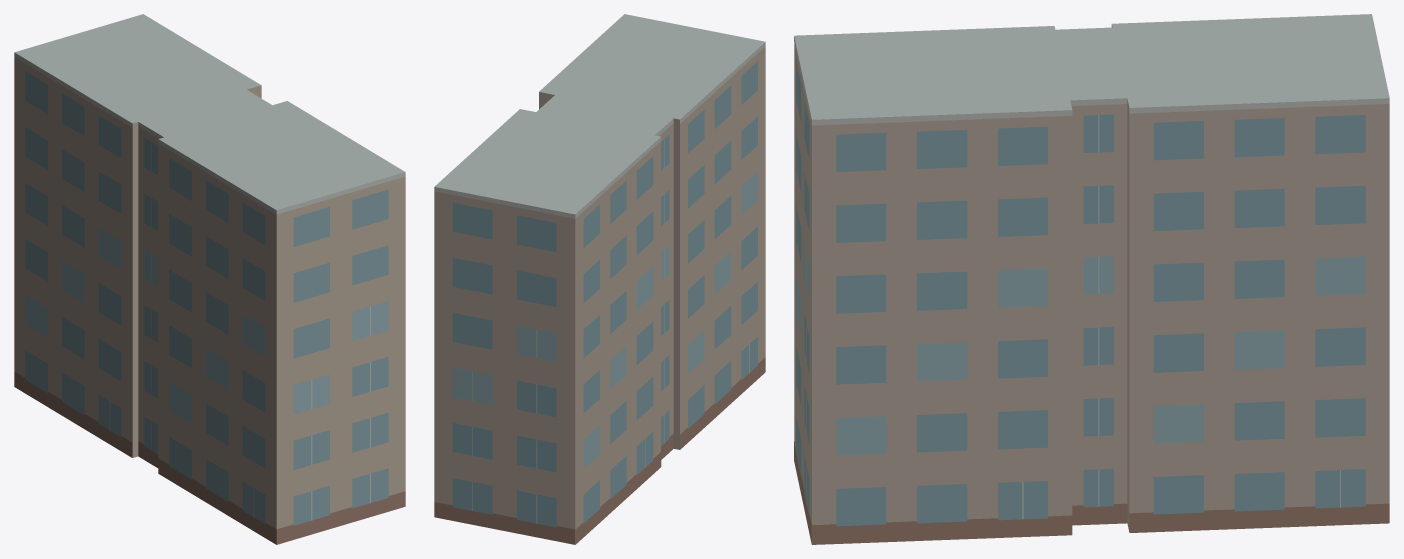
The model's file is survey-upis-33019803.glb.
3 views of the same model, side by side, from view 1: azimuth 30°, elevation 25°; view 2: azimuth 150°, elevation 25°; view 3: azimuth 270°, elevation 25° (orthographic). The views are drawn at different scales.
Parts seen in each view (by area): view 1: survey-upis-33019803.tmp; view 2: survey-upis-33019803.tmp; view 3: survey-upis-33019803.tmp.
Part boxes in pixels (x1=…): survey-upis-33019803.tmp: x1=14, y1=14, x2=405, y2=544; survey-upis-33019803.tmp: x1=434, y1=14, x2=765, y2=544; survey-upis-33019803.tmp: x1=794, y1=14, x2=1389, y2=544.
Size of the model in its own units: 9.78 by 18.3 by 23.25.
